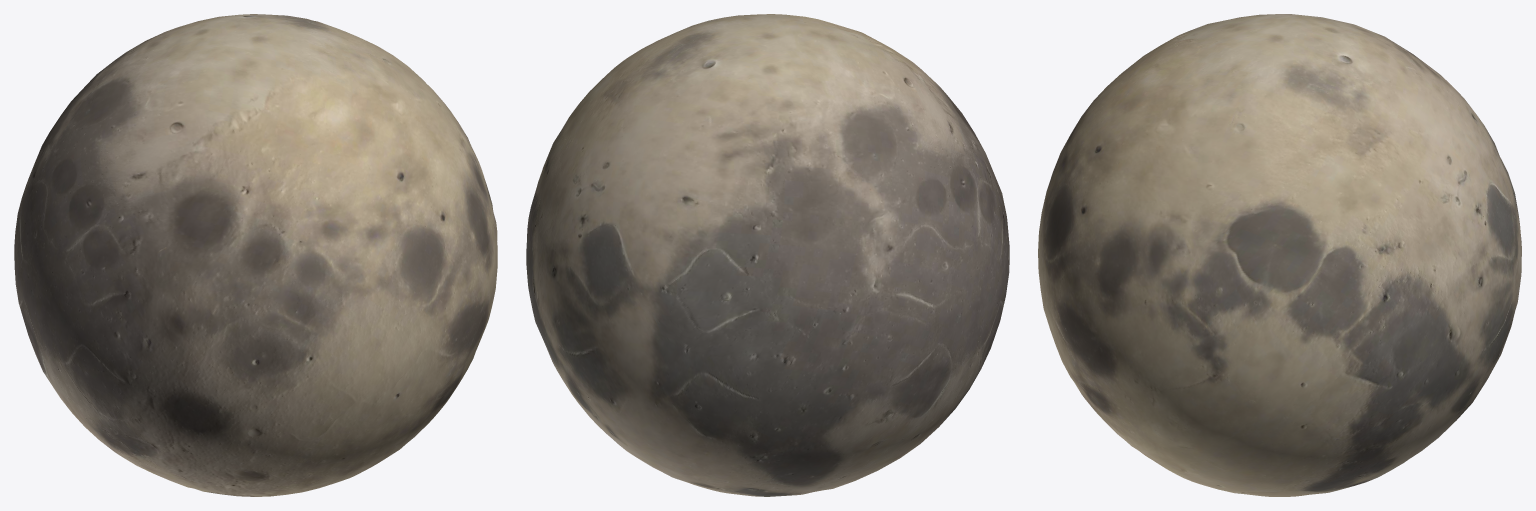
File: moon-realistic.glb
The picture shows the model from 3 angles, left to right: view 1: azimuth 30°, elevation 25°; view 2: azimuth 150°, elevation 25°; view 3: azimuth 270°, elevation 25°; orthographic projection.
Parts seen in each view (by area): view 1: Mesh0; view 2: Mesh0; view 3: Mesh0.
Part boxes in pixels (<box>): Mesh0: <box>14,14,497,496</box>; Mesh0: <box>526,14,1009,496</box>; Mesh0: <box>1038,14,1521,496</box>.
Size of the model in its own units: 1.91 by 1.89 by 1.91.
1 material, 1 textured.
